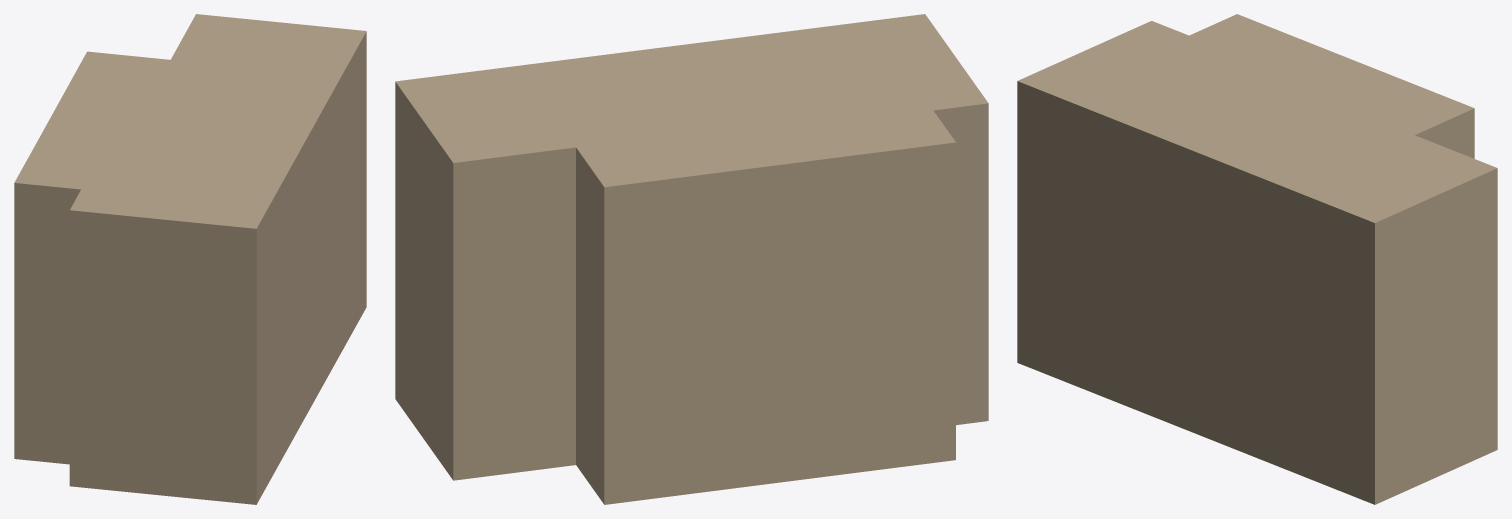
Rendered from bld_101353719.dae.
3 renders of one model, left to right at view 1: azimuth 30°, elevation 25°; view 2: azimuth 150°, elevation 25°; view 3: azimuth 270°, elevation 25°, orthographic. The views are drawn at different scales.
Parts seen in each view (by area): view 1: bld_101353719; view 2: bld_101353719; view 3: bld_101353719.
Part boxes in pixels (x1,y1,x2,y2): bld_101353719: (14,14,366,504); bld_101353719: (395,14,988,504); bld_101353719: (1017,14,1497,504).
Size of the model in its own units: 12.73 by 12.36 by 8.
